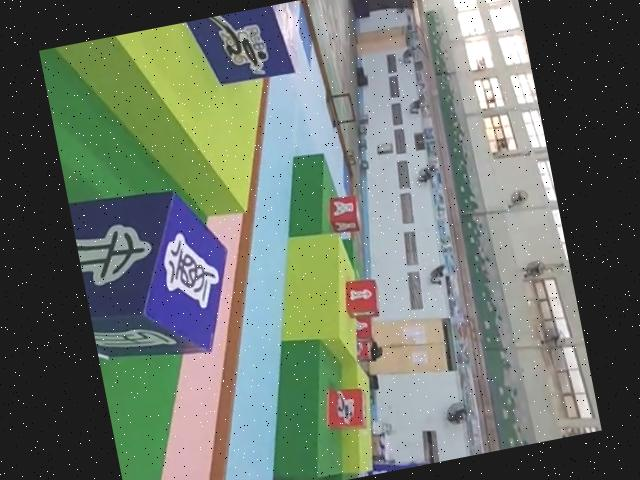R1 Blue: (183, 1, 307, 93)
R2 Fake Blue: (69, 177, 243, 372)
